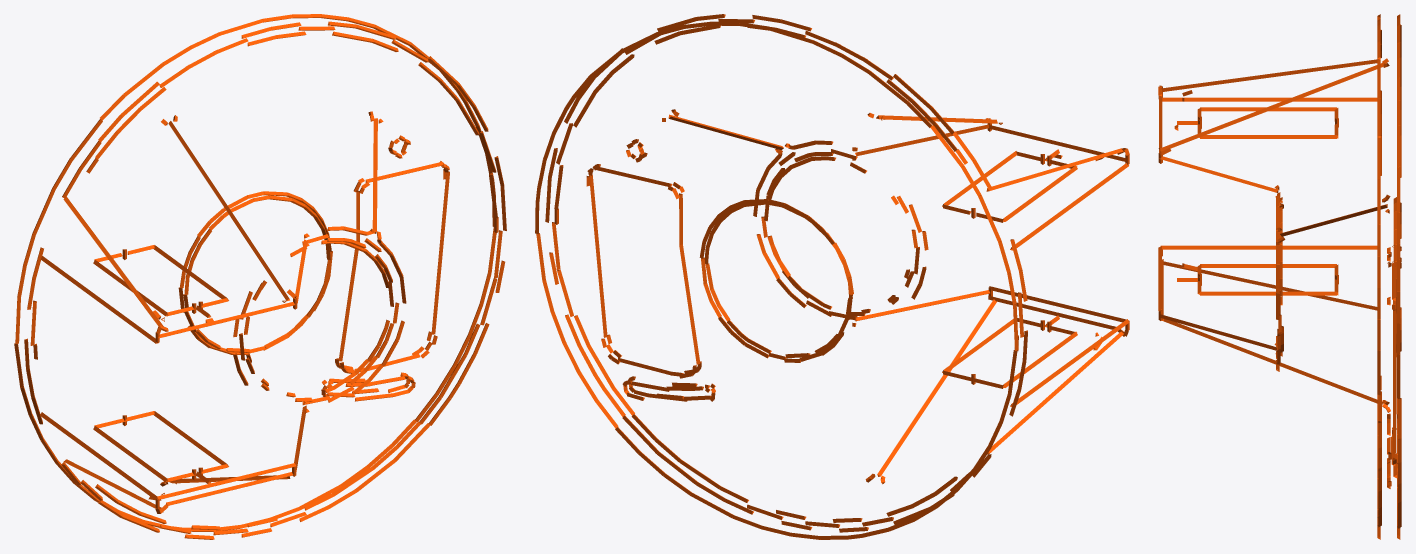
File: VIS_INIT.obj
3 views of the same model, side by side, from view 1: azimuth 30°, elevation 25°; view 2: azimuth 150°, elevation 25°; view 3: azimuth 270°, elevation 25° (orthographic). The views are drawn at different scales.
Bounding box in the file's own units: 16.12 × 16.12 × 7.44.
